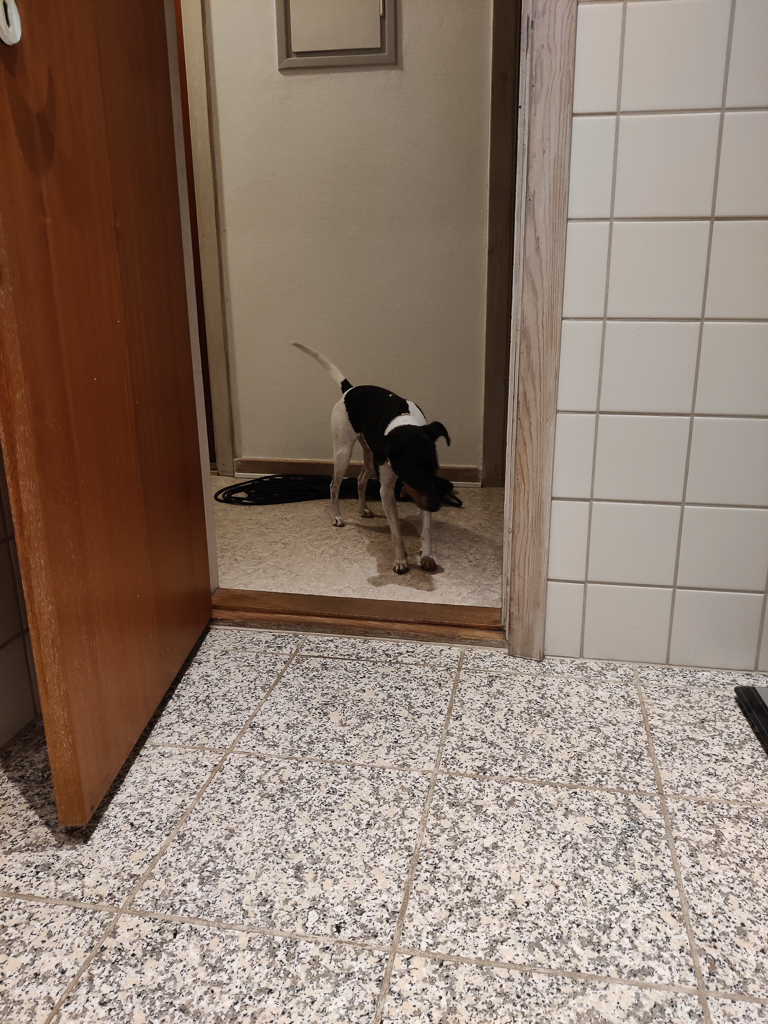Dog: (286, 334, 458, 579)
